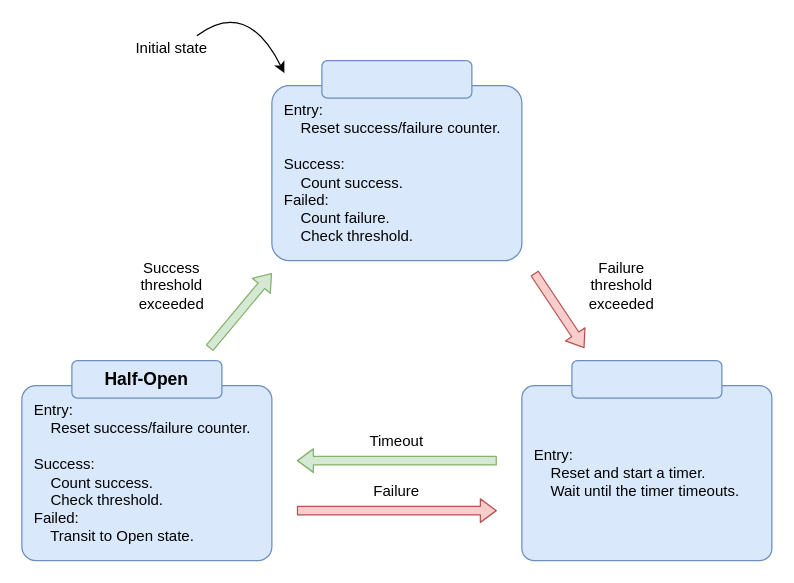
Some shapes in this 794 by 583 pixel diagram are drawn without their labels. The shapes that lost their labels are listed below. From the top down, each one's centre as x and y in pixels, then its label:
At [396,78]: "Closed".
At [646,378]: "Open".
